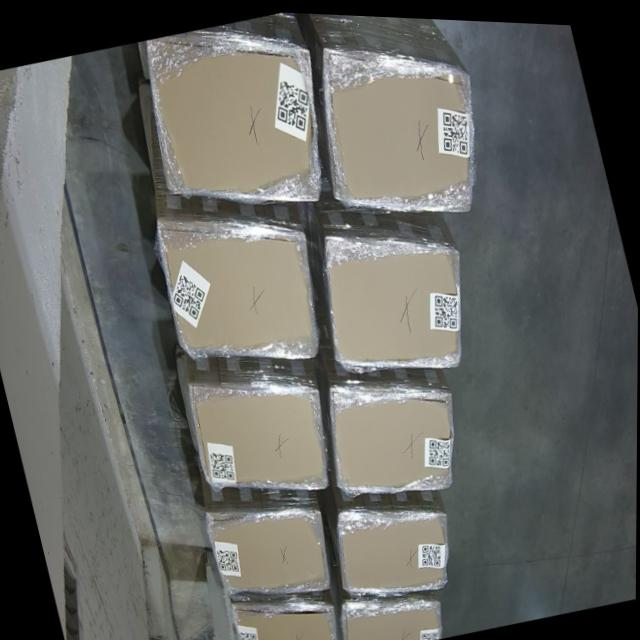pallet: (143, 39, 323, 195), (325, 45, 474, 206), (157, 225, 319, 359), (325, 234, 462, 360), (186, 382, 328, 485), (332, 379, 455, 484), (202, 508, 328, 590), (340, 508, 449, 587), (229, 592, 338, 640), (344, 596, 441, 640)
